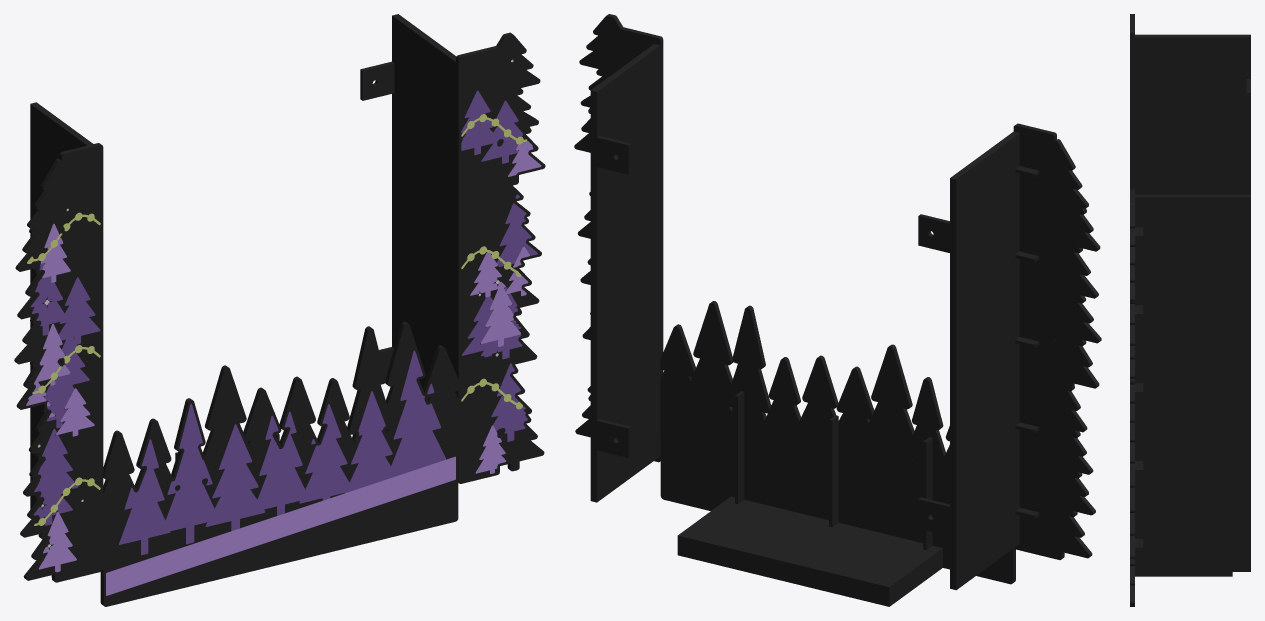
File: parts.glb
3 renders of one model, left to right at view 1: azimuth 30°, elevation 25°; view 2: azimuth 150°, elevation 25°; view 3: azimuth 270°, elevation 25°, orthographic. The views are drawn at different scales.
Parts seen in each view (by area): view 1: wing_right__base, topper__base, wing_left__base, topper__plum, topper__purple, wing_right__plum, wing_left__plum, wing_left__purple, wing_right__purple, wing_left__neon, wing_right__neon; view 2: topper__base, wing_left__base, wing_right__base; view 3: wing_right__base, wing_left__base, topper__base.
Part boxes in pixels (x1=…): wing_right__base: x1=360, y1=14, x2=545, y2=483; topper__base: x1=100, y1=321, x2=458, y2=606; wing_left__base: x1=14, y1=102, x2=103, y2=582; topper__plum: x1=119, y1=350, x2=445, y2=555; topper__purple: x1=106, y1=456, x2=455, y2=595; wing_right__plum: x1=461, y1=90, x2=537, y2=441; wing_left__plum: x1=31, y1=263, x2=100, y2=525; wing_left__purple: x1=26, y1=224, x2=94, y2=572; wing_right__purple: x1=470, y1=141, x2=541, y2=473; wing_left__neon: x1=27, y1=212, x2=100, y2=525; wing_right__neon: x1=461, y1=114, x2=527, y2=409; topper__base: x1=660, y1=301, x2=1024, y2=606; wing_left__base: x1=918, y1=123, x2=1101, y2=590; wing_right__base: x1=574, y1=14, x2=663, y2=502; wing_right__base: x1=1130, y1=189, x2=1250, y2=604; wing_left__base: x1=1130, y1=14, x2=1250, y2=194; topper__base: x1=1130, y1=572, x2=1232, y2=606.
Bounding box in the file's own units: 334 × 286 × 73.01.
